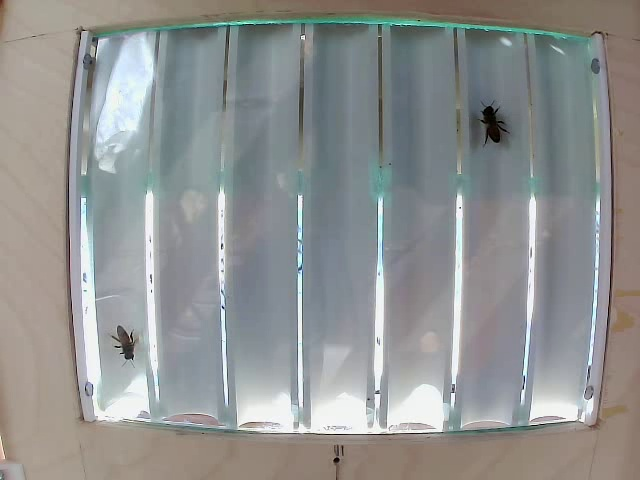bee: (478, 101, 509, 150), (111, 324, 149, 359)
